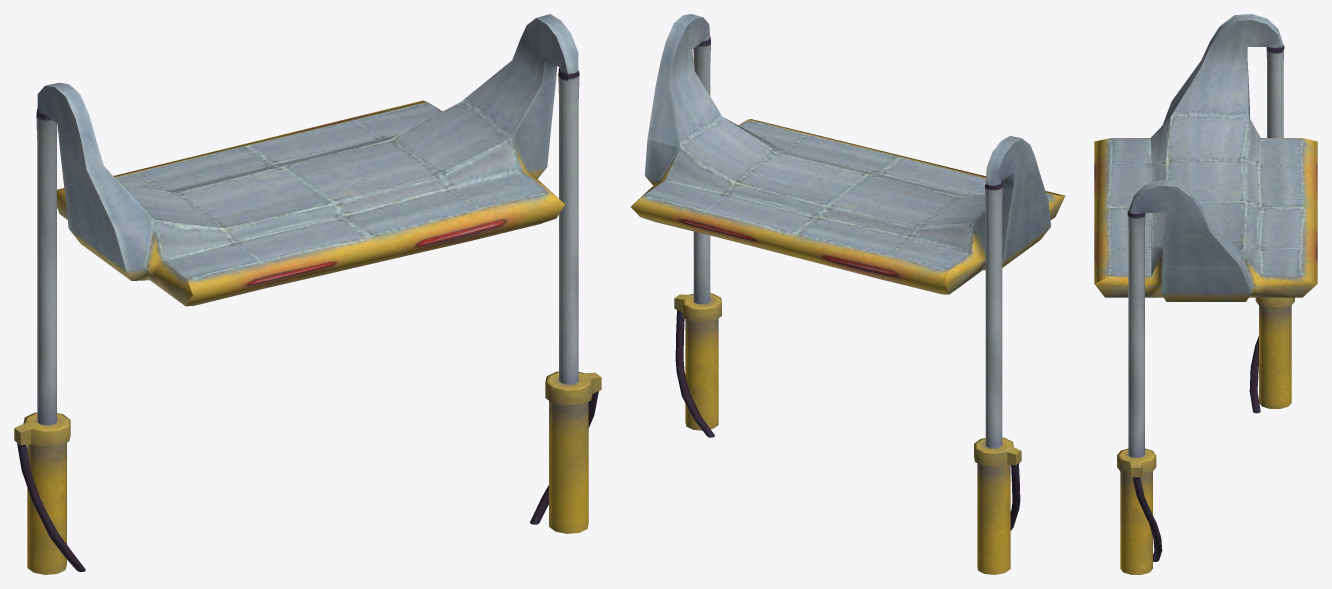
File: Space_Hazard_crusher_diffuse.fbx
3 renders of one model, left to right at view 1: azimuth 30°, elevation 25°; view 2: azimuth 150°, elevation 25°; view 3: azimuth 270°, elevation 25°, orthographic. The views are drawn at different scales.
Visible parts, largest first — view 1: pCylinder14; view 2: pCylinder14; view 3: pCylinder14.
Part boxes in pixels (bbox=[...]): pCylinder14: bbox=[14, 14, 601, 574]; pCylinder14: bbox=[631, 14, 1065, 574]; pCylinder14: bbox=[1094, 14, 1317, 574].
Bounding box in the file's own units: 10 × 9.56 × 5.
